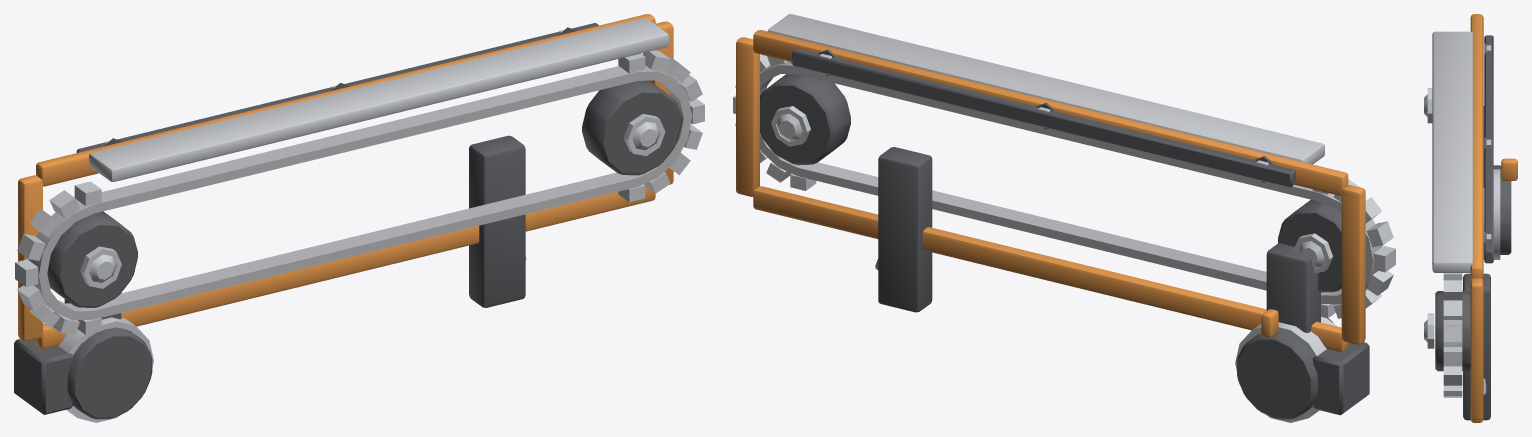
The model's file is bandsaw.glb.
3 renders of one model, left to right at view 1: azimuth 30°, elevation 25°; view 2: azimuth 150°, elevation 25°; view 3: azimuth 270°, elevation 25°, orthographic. The views are drawn at different scales.
Parts seen in each view (by area): view 1: body; view 2: body; view 3: body.
Boxes of the visible parts, x1,y1,x2,y2 form: body: (14, 14, 704, 422); body: (733, 14, 1395, 422); body: (1424, 14, 1517, 422).
Size of the model in its own units: 0.717 by 0.2648 by 0.101.
